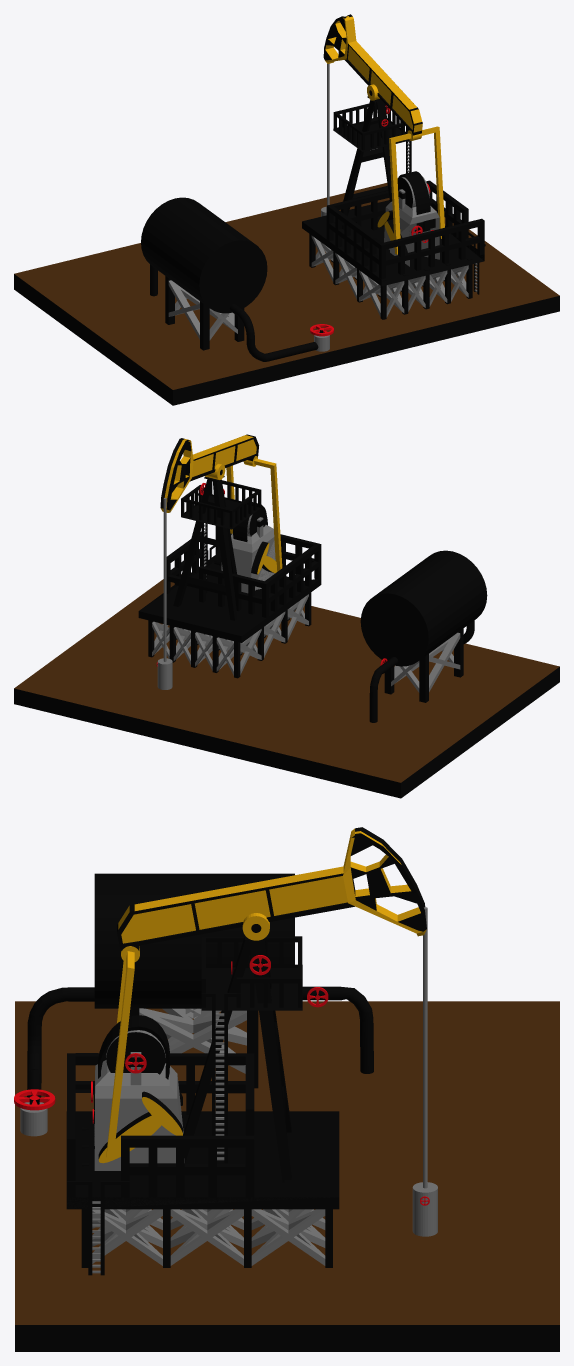
The model's file is OilPumpJack.fbx.
3 renders of one model, top to bottom at view 1: azimuth 30°, elevation 25°; view 2: azimuth 150°, elevation 25°; view 3: azimuth 270°, elevation 25°, orthographic. The views are drawn at different scales.
Parts seen in each view (by area): view 1: Cube; view 2: Cube; view 3: Cube.
Part boxes in pixels (<box>): Cube: <box>14,14,559,405</box>; Cube: <box>14,434,559,798</box>; Cube: <box>14,827,559,1351</box>.
Bounding box in the file's own units: 949 × 584 × 676.
